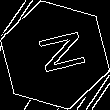N_W: (25, 30, 85, 80)
